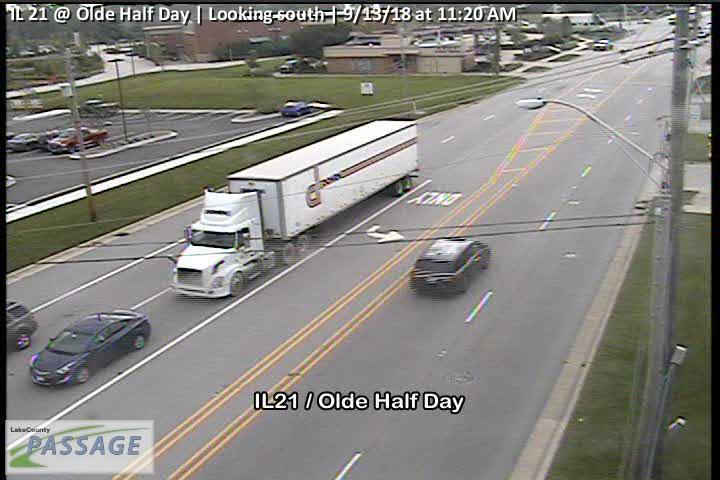SUV: (409, 236, 491, 294), (281, 100, 313, 116)
Sedan: (27, 308, 152, 388), (48, 125, 109, 153)
Truck: (171, 118, 419, 298)
